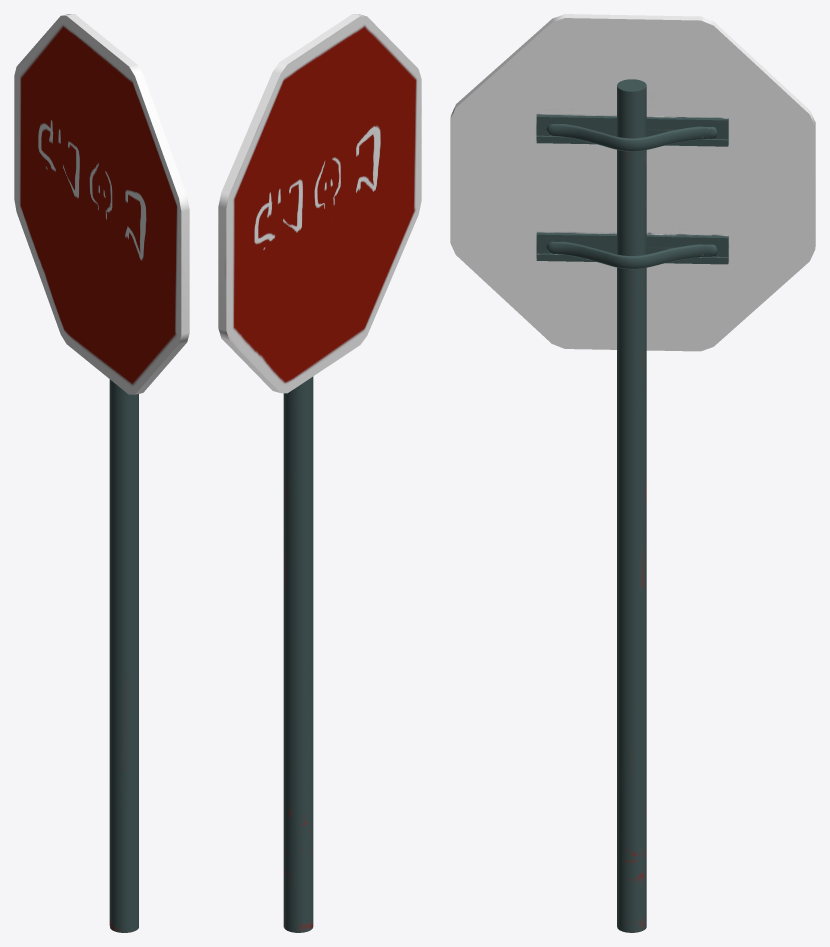
Rendered from Stop_sign.fbx.
3 renders of one model, left to right at view 1: azimuth 30°, elevation 25°; view 2: azimuth 150°, elevation 25°; view 3: azimuth 270°, elevation 25°, orthographic.
Parts seen in each view (by area): view 1: Pole; view 2: Pole; view 3: Pole.
Part boxes in pixels (box(x1,y1,x2,y2)): Pole: box(14, 14, 189, 932); Pole: box(218, 14, 421, 932); Pole: box(450, 14, 815, 932).
Bounding box in the file's own units: 0.1984 × 3.42 × 1.26.
Materials: 1 (1 with a texture image).
